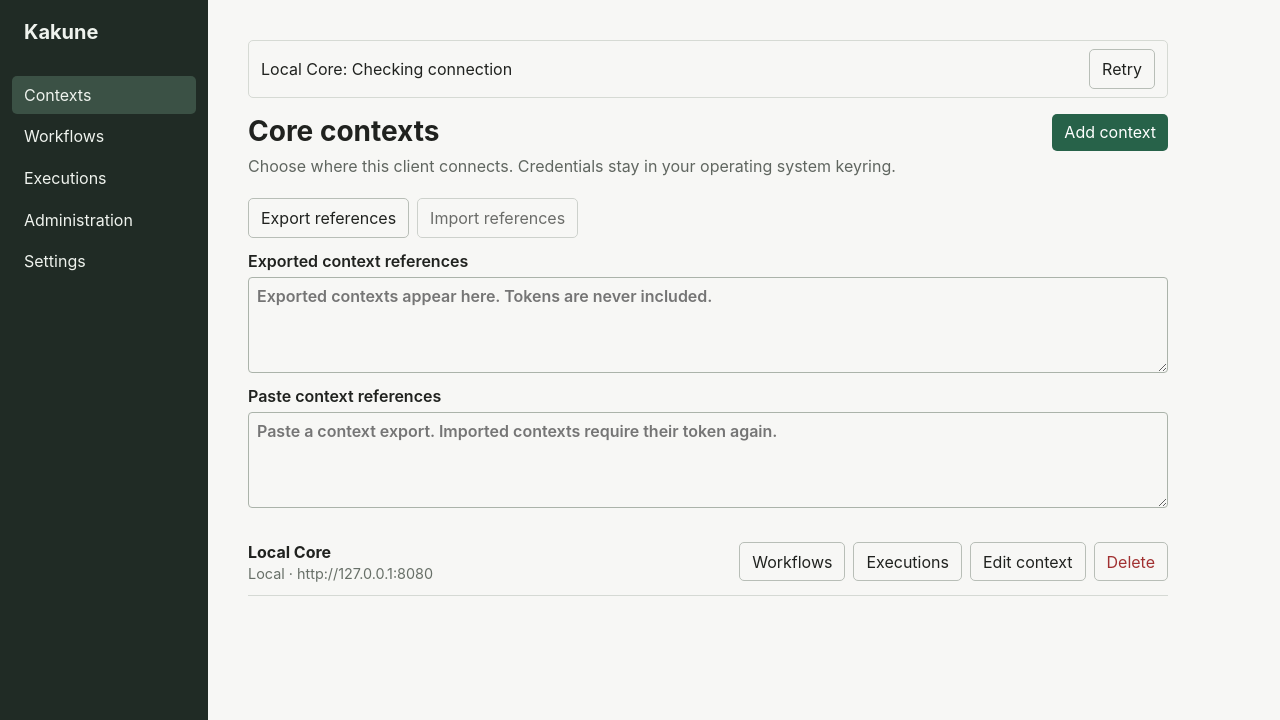
it: Execution observability › renders a trace timeline, workflow overlay and unknown provider cost
This screenshot has width=1280, height=720.
Click the button "Executions" below "Kakune" at (104, 178), box [12,159,196,197]
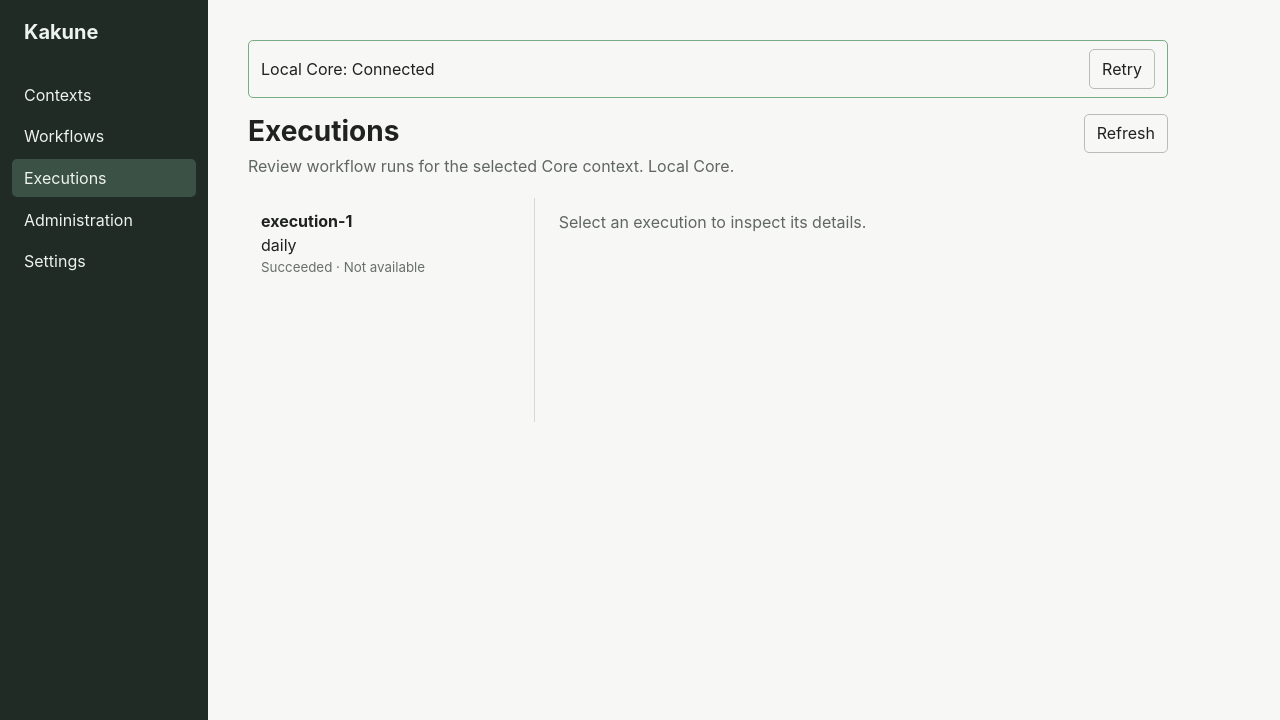
Click the button "execution-1 daily Succeeded · Not available" at (307, 221), box [248,198,518,288]
(page scrolled)
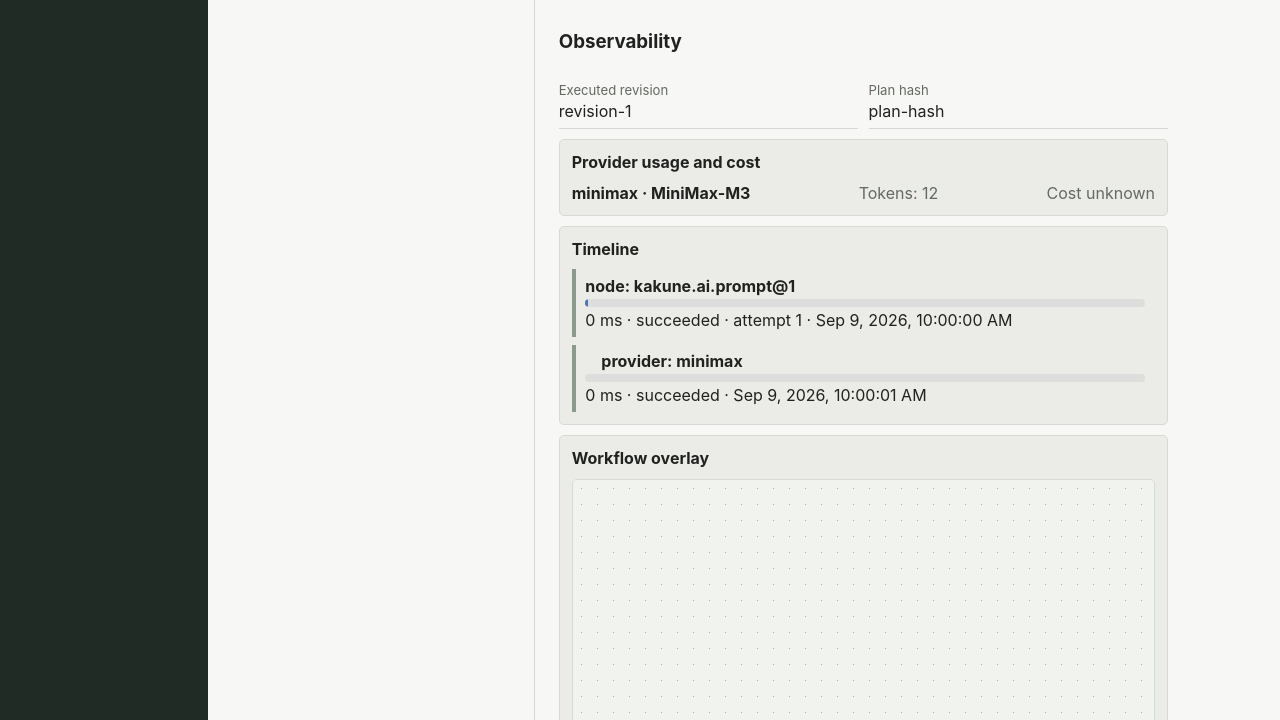
Result: the text "Cost unknown" is shown at [1046,183,1155,203]
Result: the heading "Workflow overlay" is shown at [572,448,709,468]
Result: the text "provider: minimax" is shown at [601,351,743,371]
